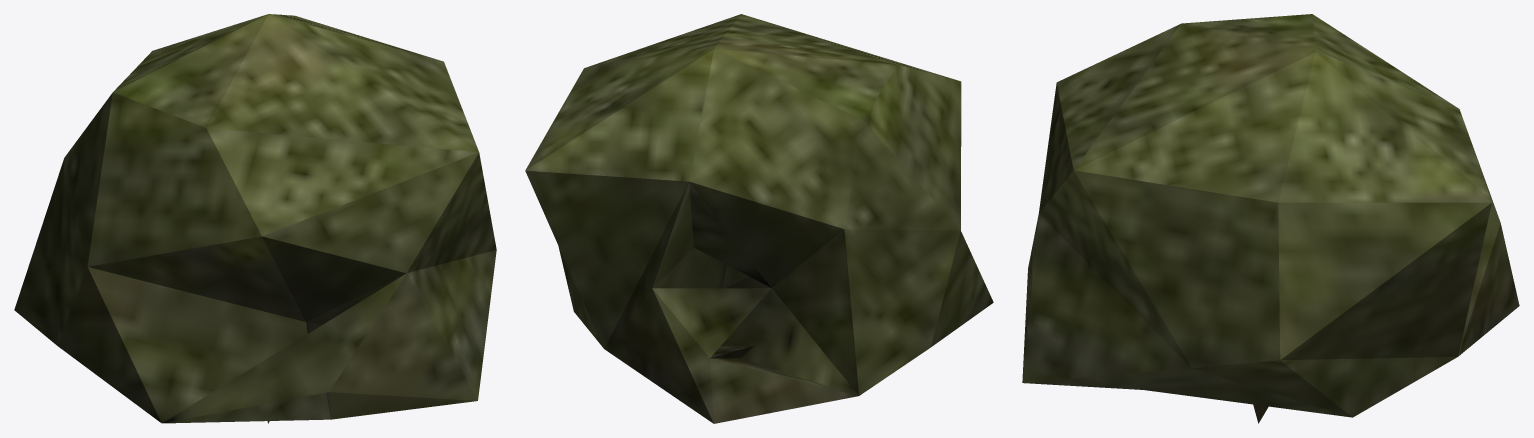
Rendered from ga3_oak_90.glb.
3 views of the same model, side by side, from view 1: azimuth 30°, elevation 25°; view 2: azimuth 150°, elevation 25°; view 3: azimuth 270°, elevation 25° (orthographic). The views are drawn at different scales.
Parts seen in each view (by area): view 1: ga3_oak_90; view 2: ga3_oak_90; view 3: ga3_oak_90.
Part boxes in pixels (x1=…): ga3_oak_90: x1=14, y1=14, x2=496, y2=423; ga3_oak_90: x1=525, y1=14, x2=993, y2=423; ga3_oak_90: x1=1022, y1=14, x2=1519, y2=423.
Bounding box in the file's own units: 0.911 × 0.793 × 0.9261.
1 material, 1 textured.
